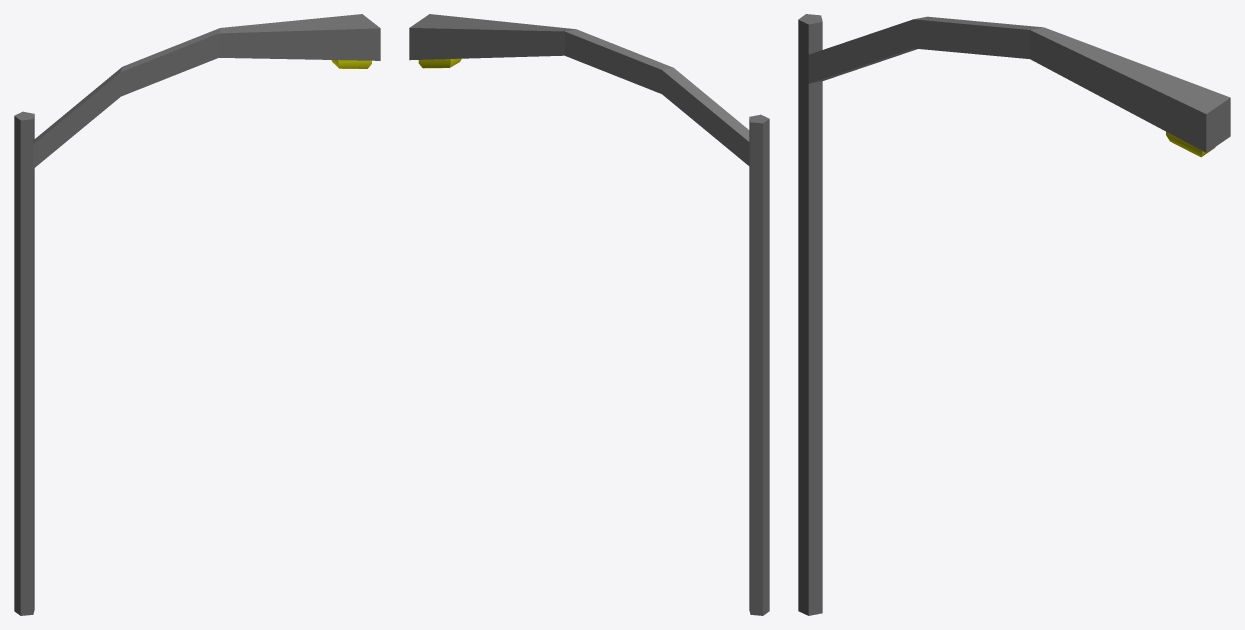
File: StreetLight.fbx
3 views of the same model, side by side, from view 1: azimuth 30°, elevation 25°; view 2: azimuth 150°, elevation 25°; view 3: azimuth 330°, elevation 25° (orthographic). The views are drawn at different scales.
Parts seen in each view (by area): view 1: polySurface3; view 2: polySurface3; view 3: polySurface3.
Part boxes in pixels (left/top/right/bottom): polySurface3: left=14, top=14, right=380, bottom=615; polySurface3: left=409, top=14, right=769, bottom=615; polySurface3: left=798, top=14, right=1230, bottom=615.
Bounding box in the file's own units: 10.95 × 15.93 × 1.04.
